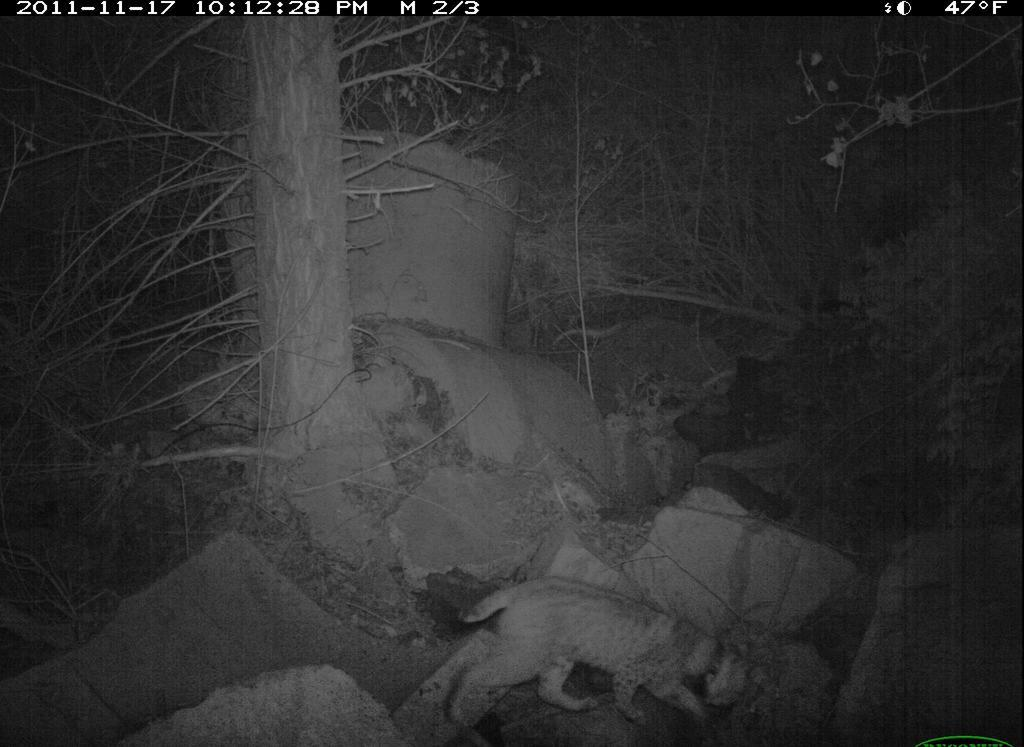bobcat: (460, 569, 740, 733)
